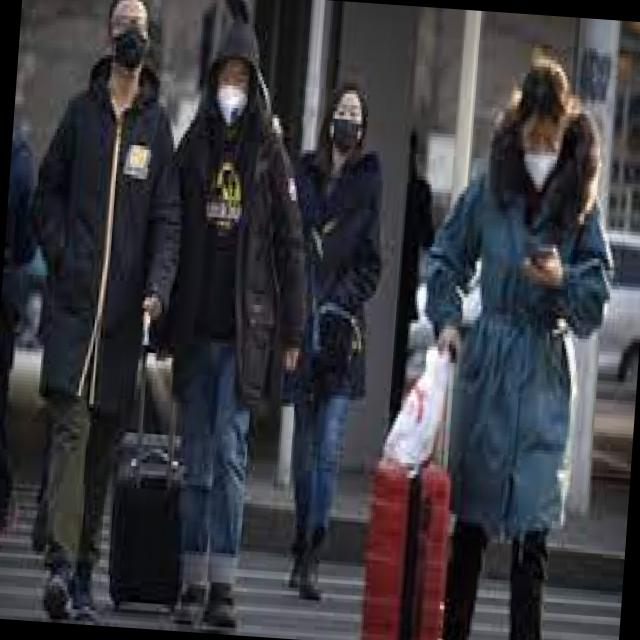Jacket: (19, 64, 192, 426), (146, 92, 324, 430), (271, 139, 393, 414)
